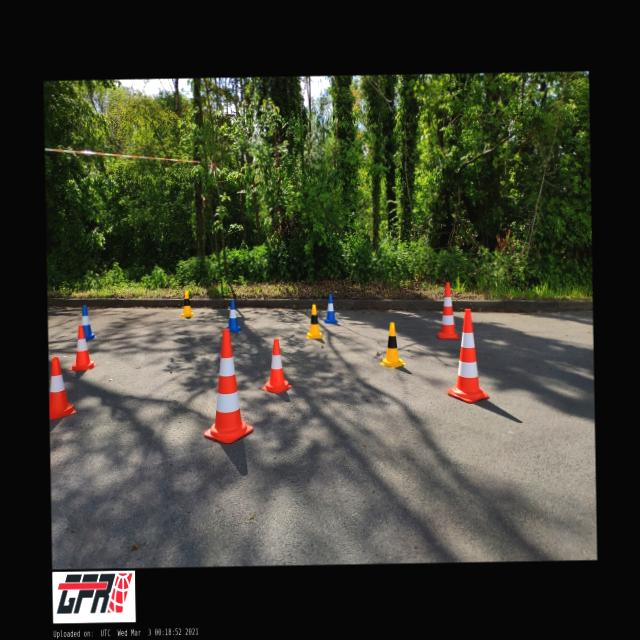blue_cone: (74, 304, 98, 340), (323, 294, 338, 324), (227, 300, 241, 332)
large_orange_cone: (202, 328, 252, 443), (446, 308, 488, 403), (436, 282, 459, 340)
orange_cone: (48, 356, 76, 421), (260, 339, 292, 394), (67, 324, 96, 370)
yellow_cone: (378, 322, 406, 368), (305, 304, 322, 338), (180, 291, 194, 317)
